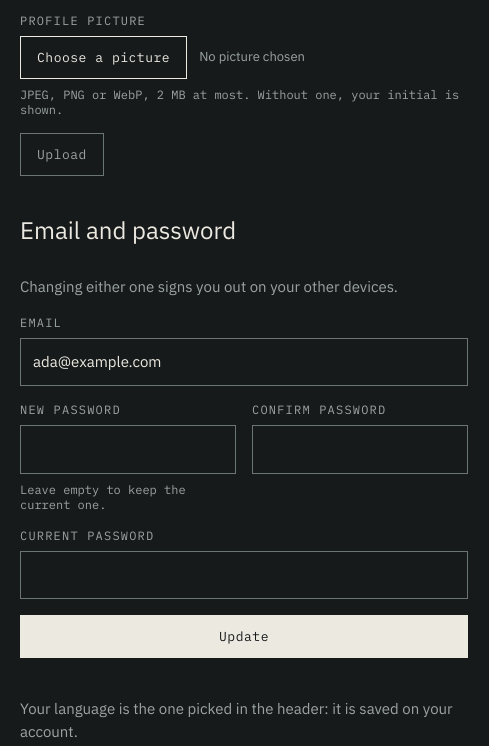
Scenario: ProfilePage email and password form › reads a 403 as "The current password is wrong."
The image size is (489, 746).
(page scrolled)
Replace the text in the field labelled "Email" with "Ada@Example.org" at point(244, 362), box 20,338 -> 468,386
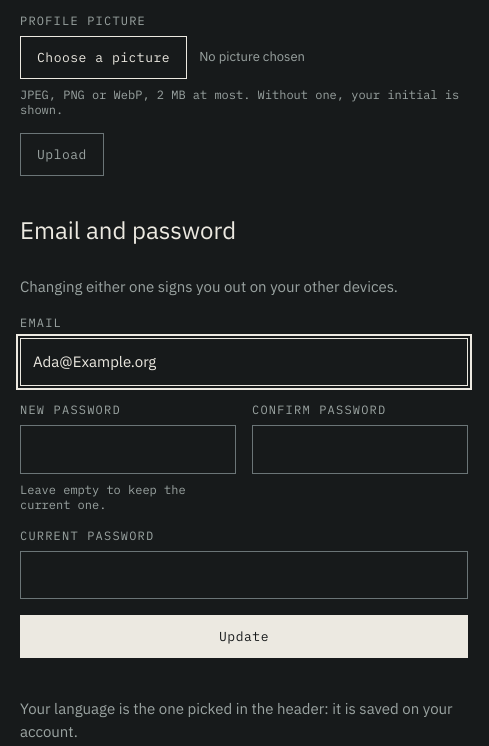
Type "secret-123" into the password field labelled "Current password".
click(244, 575); type("secret-123")  # box 20,551 -> 468,599
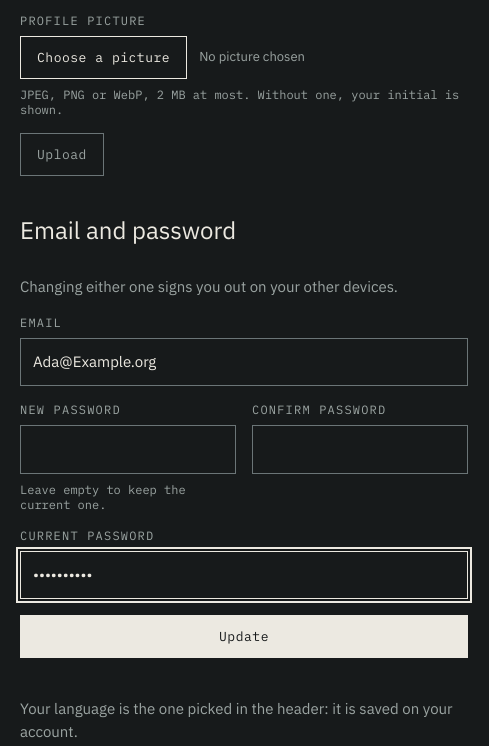
Click the button "Update".
click(244, 637)  # box 20,615 -> 468,658
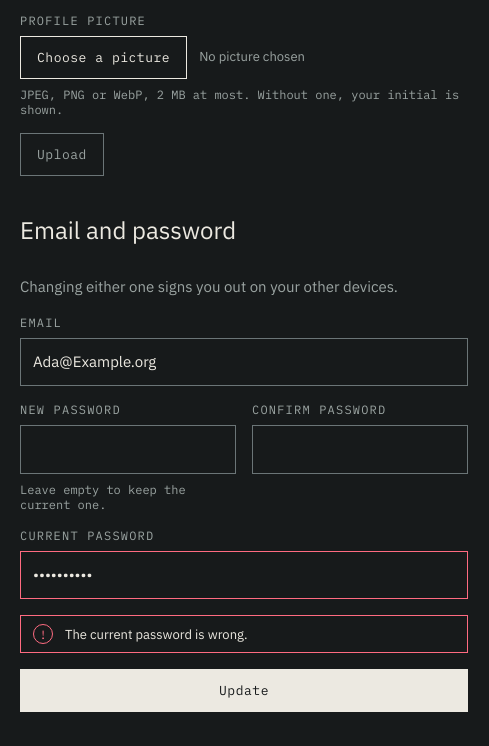
Expected: the text "The current password is wrong." is shown, 65,625 -> 248,644
